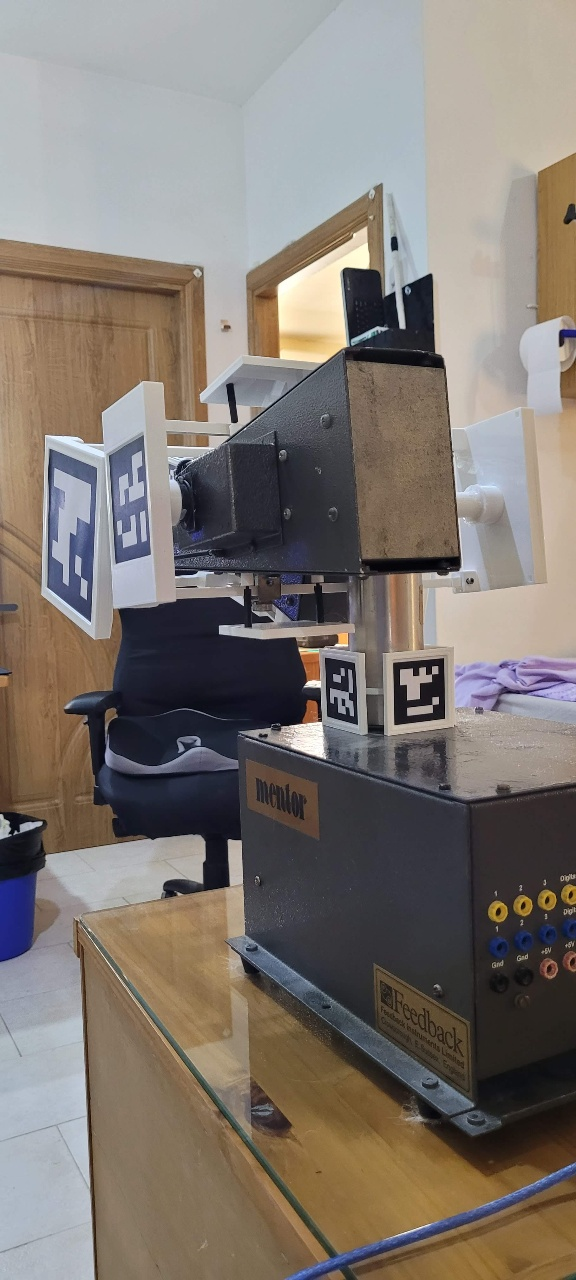Robot: (35, 307, 553, 1184)
